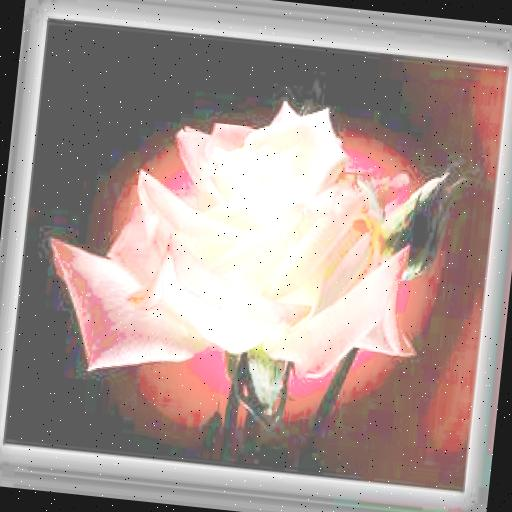rose: (36, 74, 437, 428)
